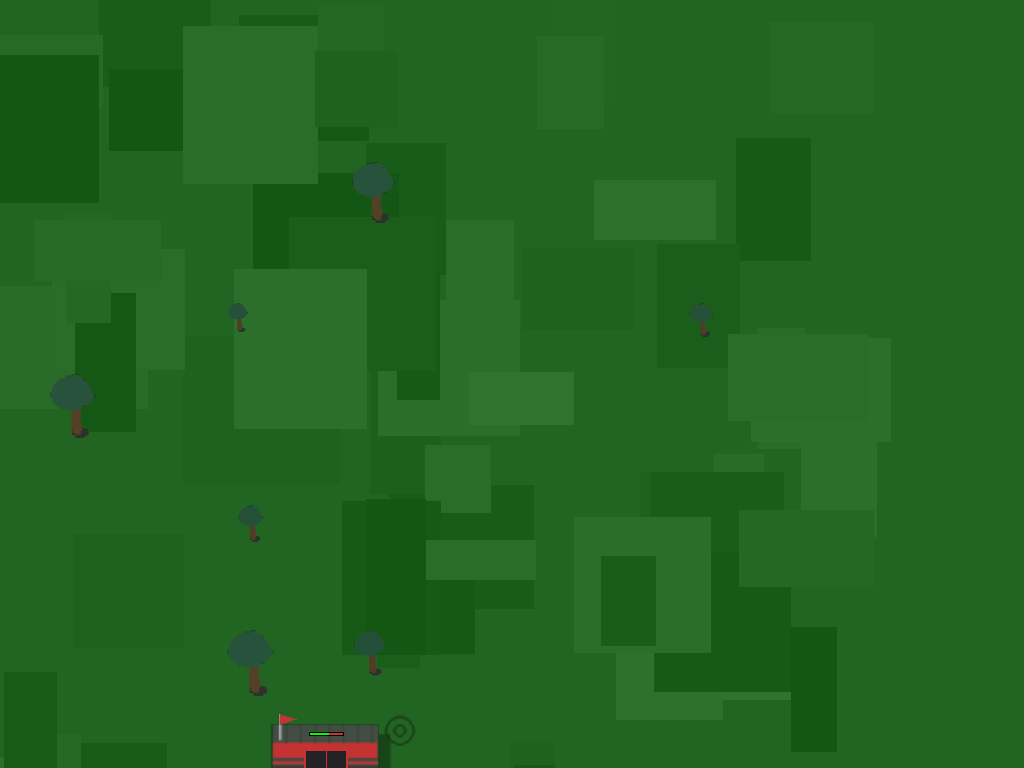Barracks: (261, 666, 391, 768)
